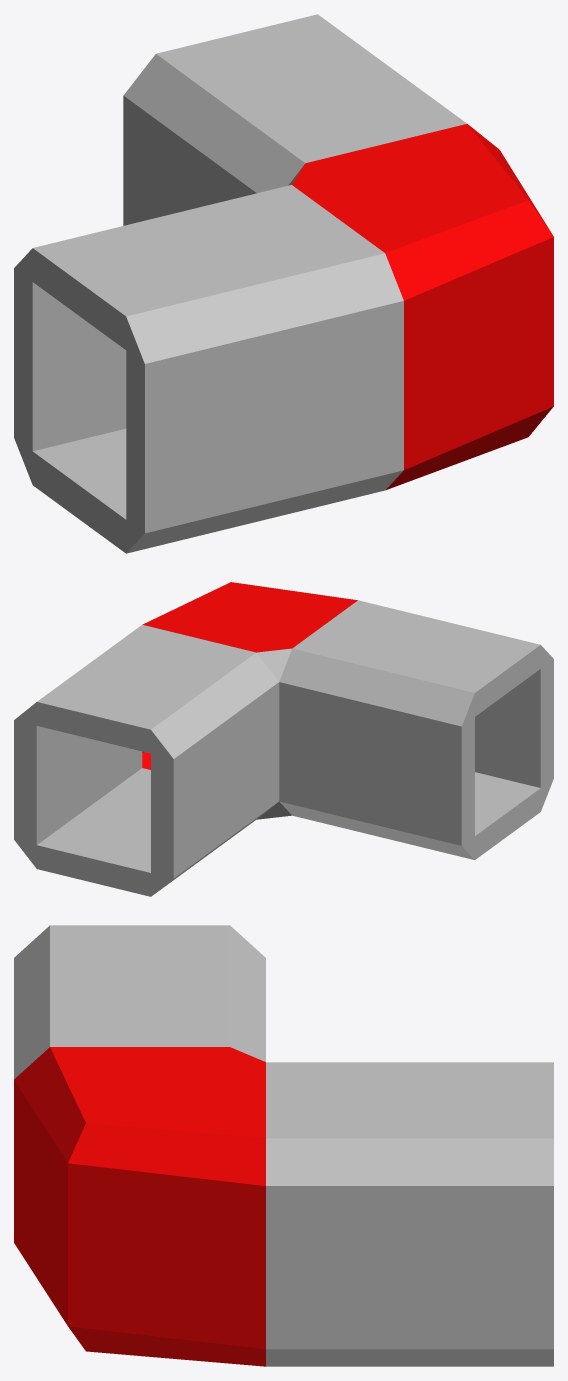
Rendered from razvorot.fbx.
3 views of the same model, one above another, from view 1: azimuth 30°, elevation 25°; view 2: azimuth 150°, elevation 25°; view 3: azimuth 270°, elevation 25° (orthographic). The views are drawn at different scales.
Visible parts, largest first — view 1: razvorot; view 2: razvorot; view 3: razvorot.
Boxes of the visible parts, bbox=[...] form: razvorot: bbox=[14, 14, 553, 553]; razvorot: bbox=[14, 582, 553, 896]; razvorot: bbox=[14, 925, 553, 1366].
Bounding box in the file's own units: 3000 × 1400 × 3000.
